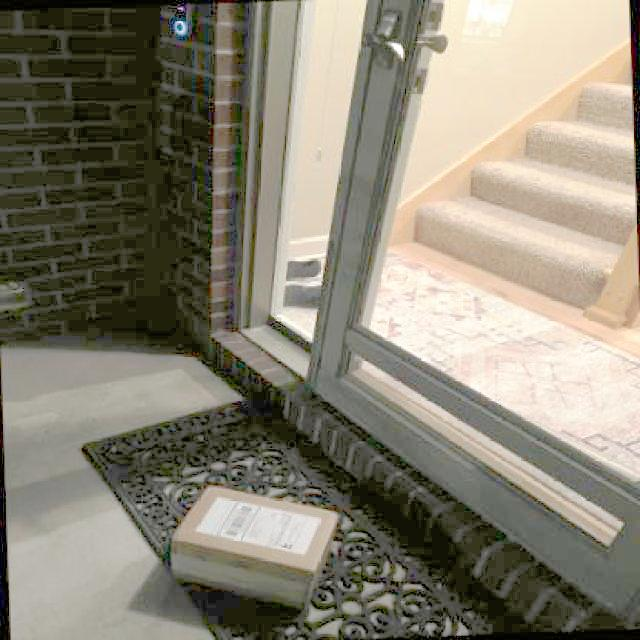Box: (167, 482, 341, 612)
